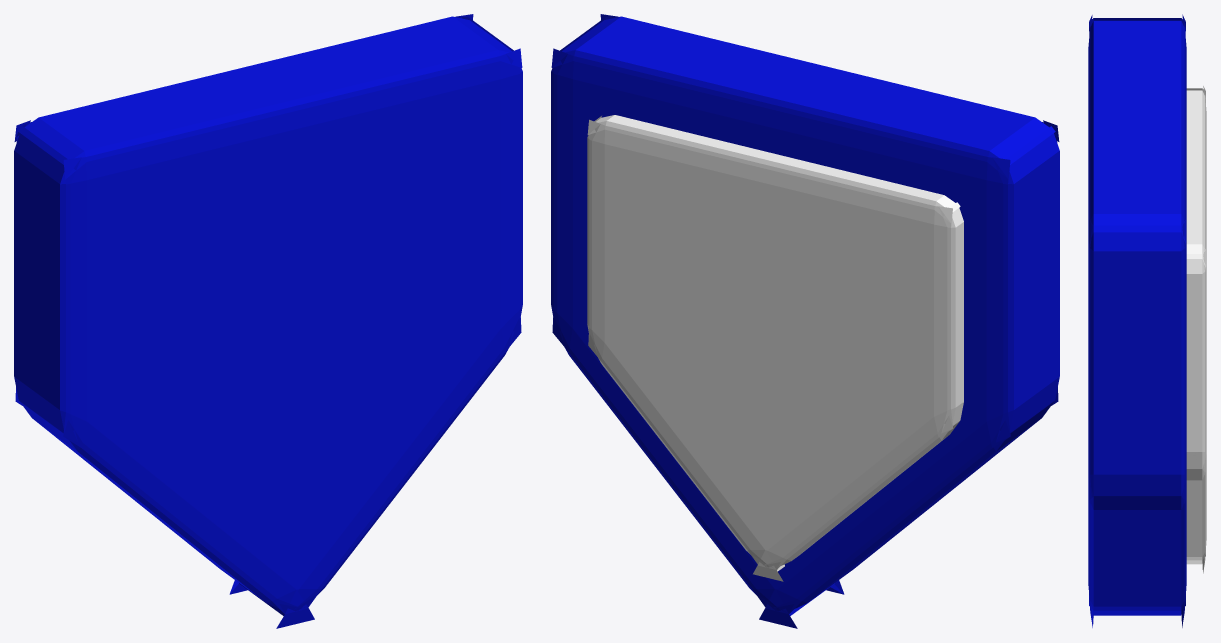
Rendered from shield.fbx.
3 views of the same model, side by side, from view 1: azimuth 30°, elevation 25°; view 2: azimuth 150°, elevation 25°; view 3: azimuth 270°, elevation 25° (orthographic). The views are drawn at different scales.
Visible parts, largest first — view 1: 立方体; view 2: 立方体.001, 立方体; view 3: 立方体, 立方体.001.
Boxes of the visible parts, x1,y1,x2,y2 form: 立方体: (14,14,522,628); 立方体.001: (587,115,963,581); 立方体: (551,14,1059,628); 立方体: (1088,14,1186,627); 立方体.001: (1186,86,1206,573).
Size of the model in its own units: 200 by 216 by 46.26.
